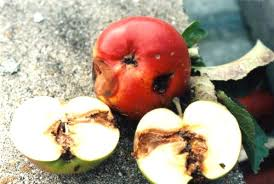damaged_apple: (89, 18, 191, 112), (136, 103, 240, 184), (12, 99, 119, 172)
